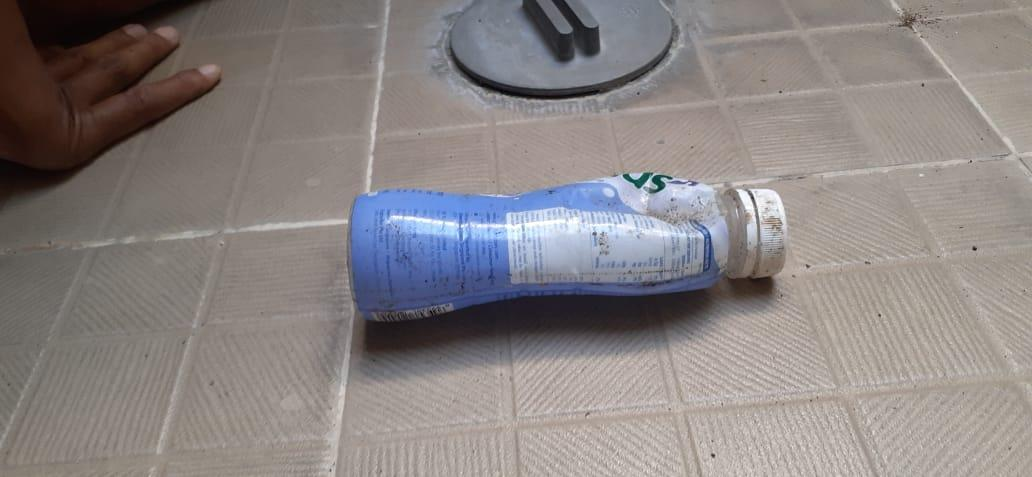Plastik: (348, 162, 791, 325)
